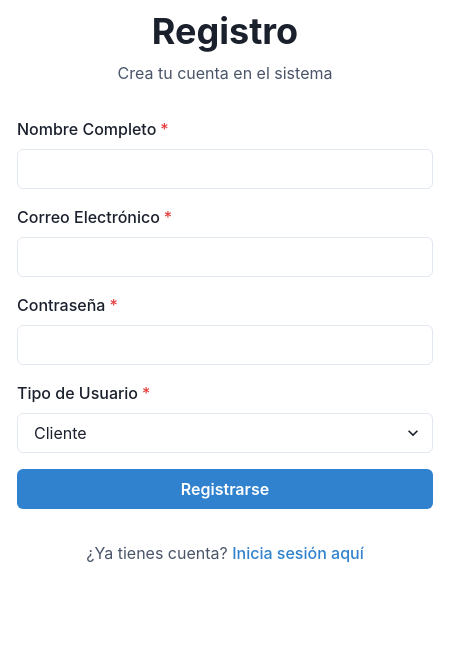
Test case: RegisterPage › should clear error when user types in any field
The width and height of the screenshot is (451, 660).
Trigger error
In the field labelled "Nombre Completo*": [225, 169] box [17,149,433,189], type "Test"
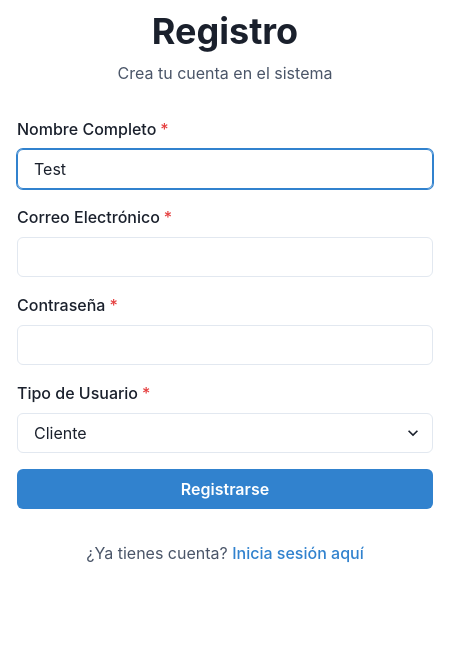
In the field labelled "Correo Electrónico*": [225, 257] box [17,237,433,277], type "test@example.com"
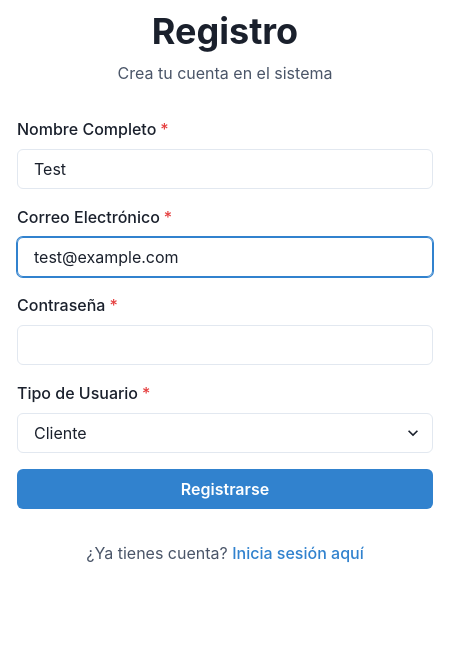
In the password field labelled "Contraseña*": [225, 345] box [17,325,433,365], type "password"
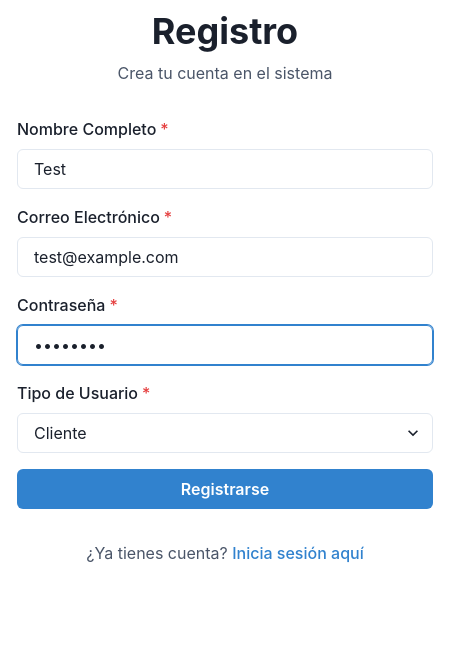
Click the button "Registrarse": [225, 489] box [17,469,433,509]
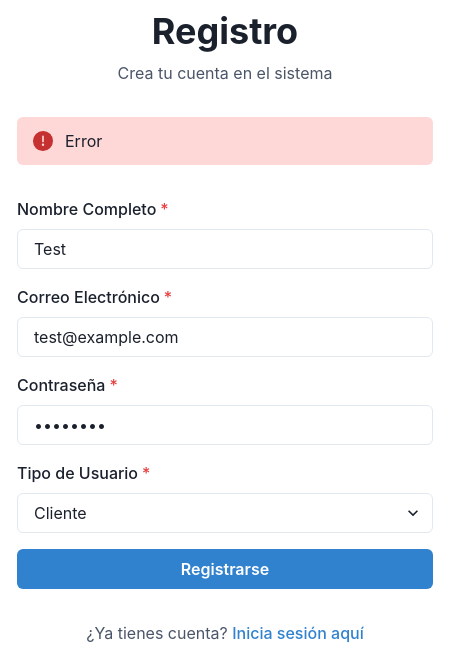
Check: the text "Error" is shown, box [17,117,433,165]
Type in name field should clear error
In the field labelled "Nombre Completo*": [225, 249] box [17,229,433,269], type "a"
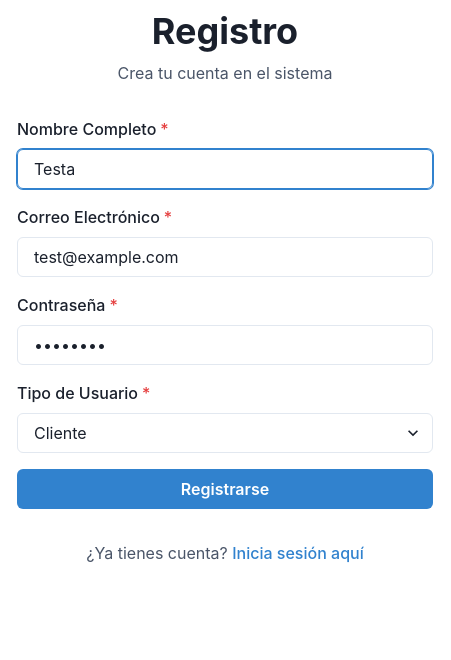
Check: the text "Error" is gone
